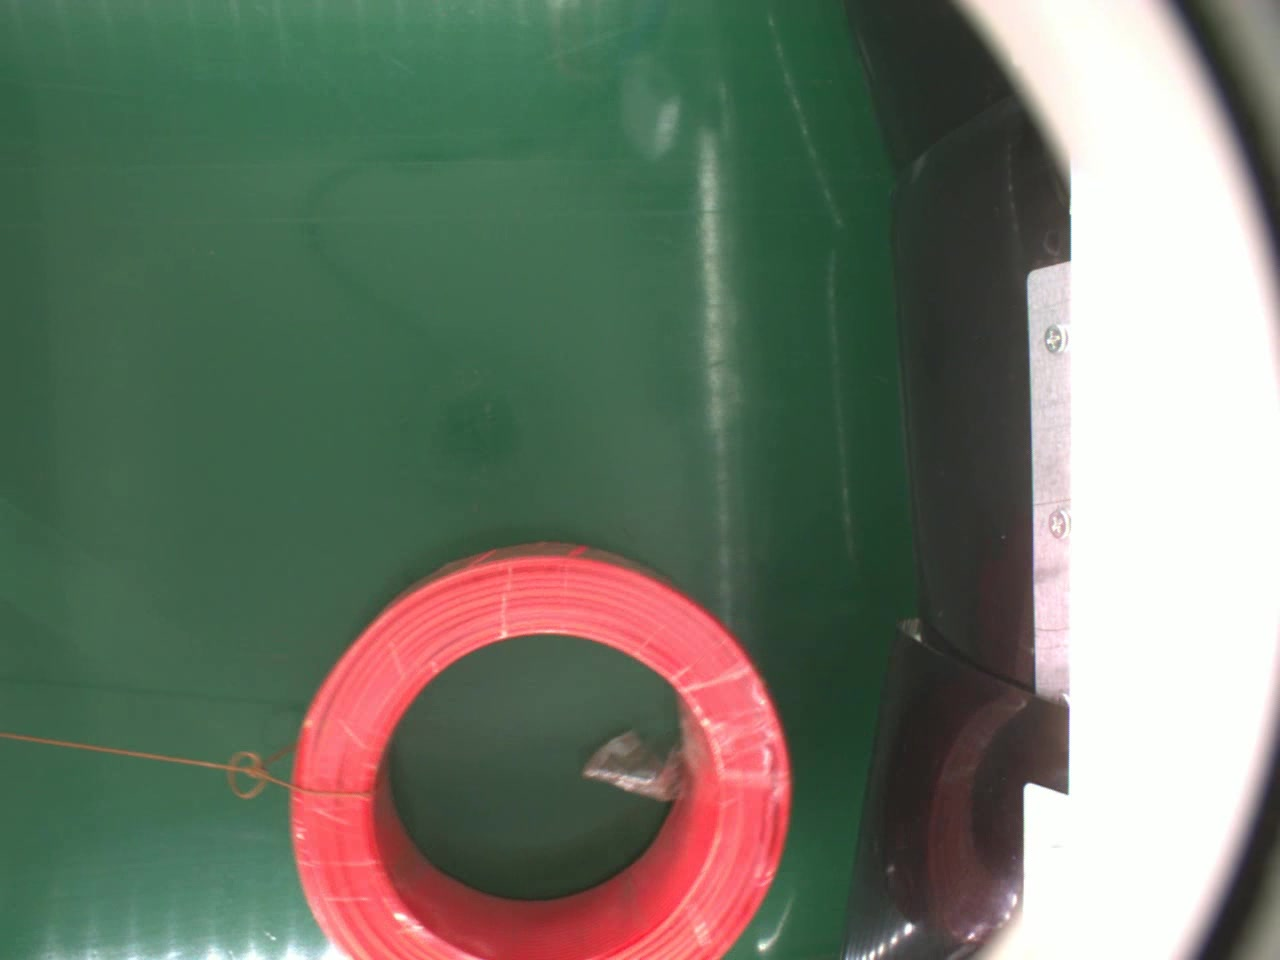red: (285, 535, 795, 957)
